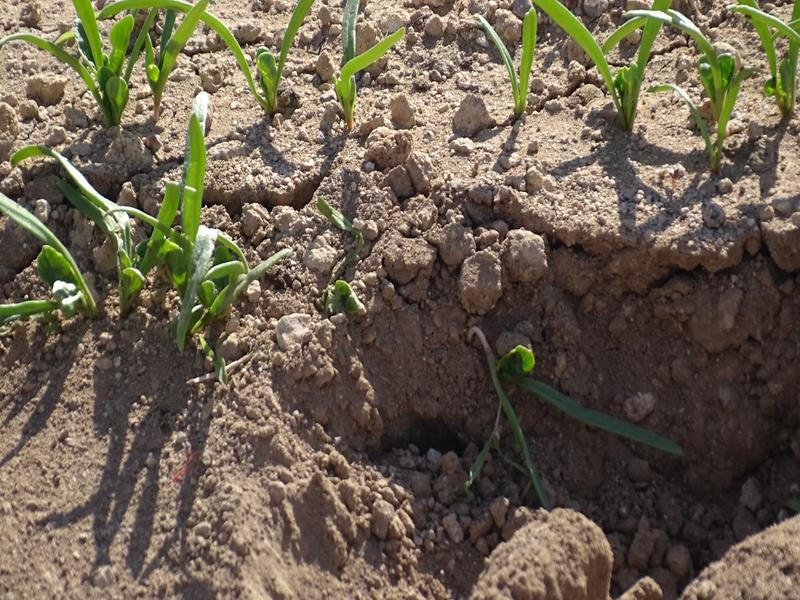Espinaca: (1, 107, 261, 321), (469, 3, 800, 154), (23, 8, 399, 125), (464, 325, 689, 505)
